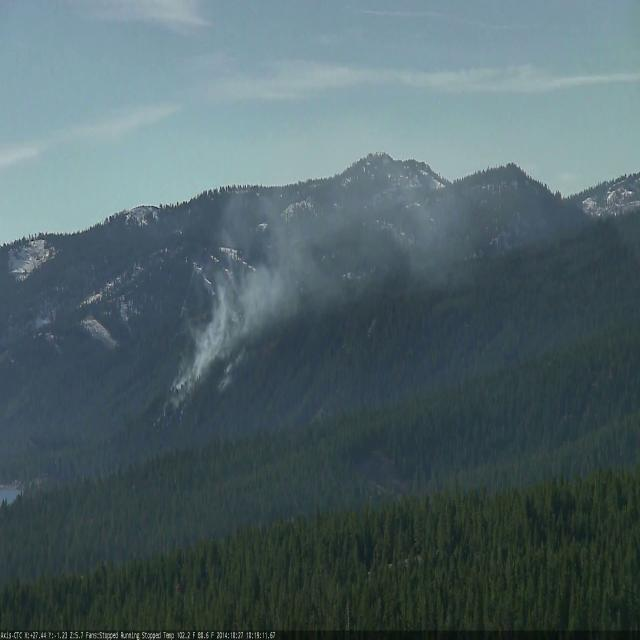smoke: (146, 119, 479, 437)
